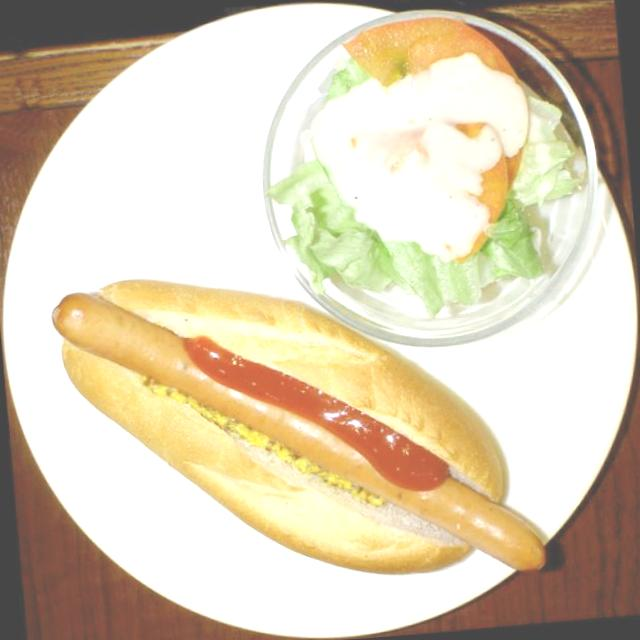Green Salad: (46, 245, 554, 620)
